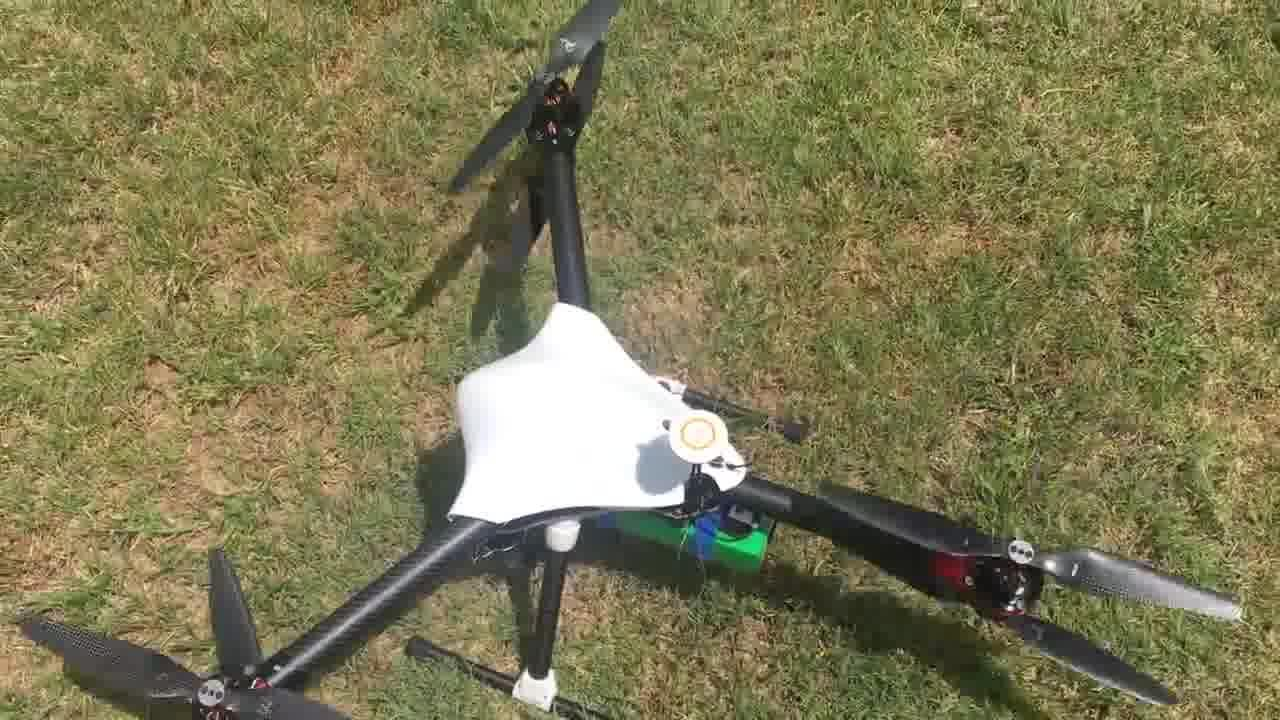drone: (147, 12, 897, 638)
